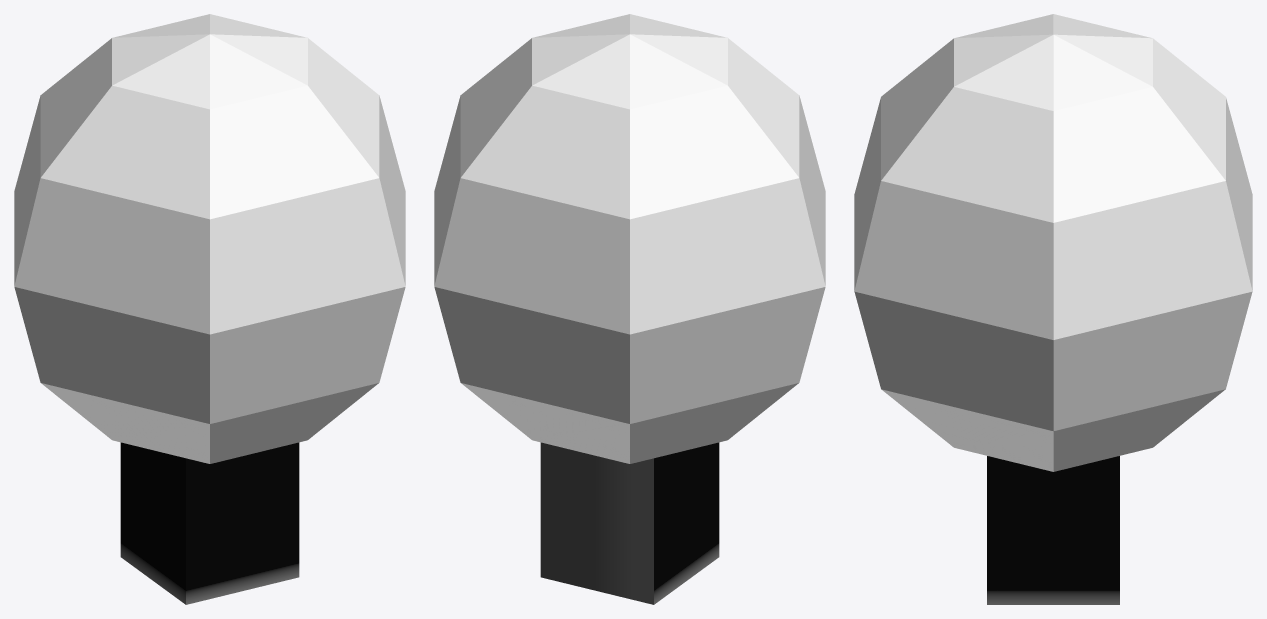
File: Tree07.fbx
3 renders of one model, left to right at view 1: azimuth 30°, elevation 25°; view 2: azimuth 150°, elevation 25°; view 3: azimuth 270°, elevation 25°, orthographic.
Parts seen in each view (by area): view 1: Tree07; view 2: Tree07; view 3: Tree07.
Part boxes in pixels (x1=…): Tree07: x1=14, y1=14, x2=405, y2=604; Tree07: x1=434, y1=14, x2=825, y2=604; Tree07: x1=854, y1=14, x2=1252, y2=604.
Size of the model in its own units: 139 by 180 by 120.
